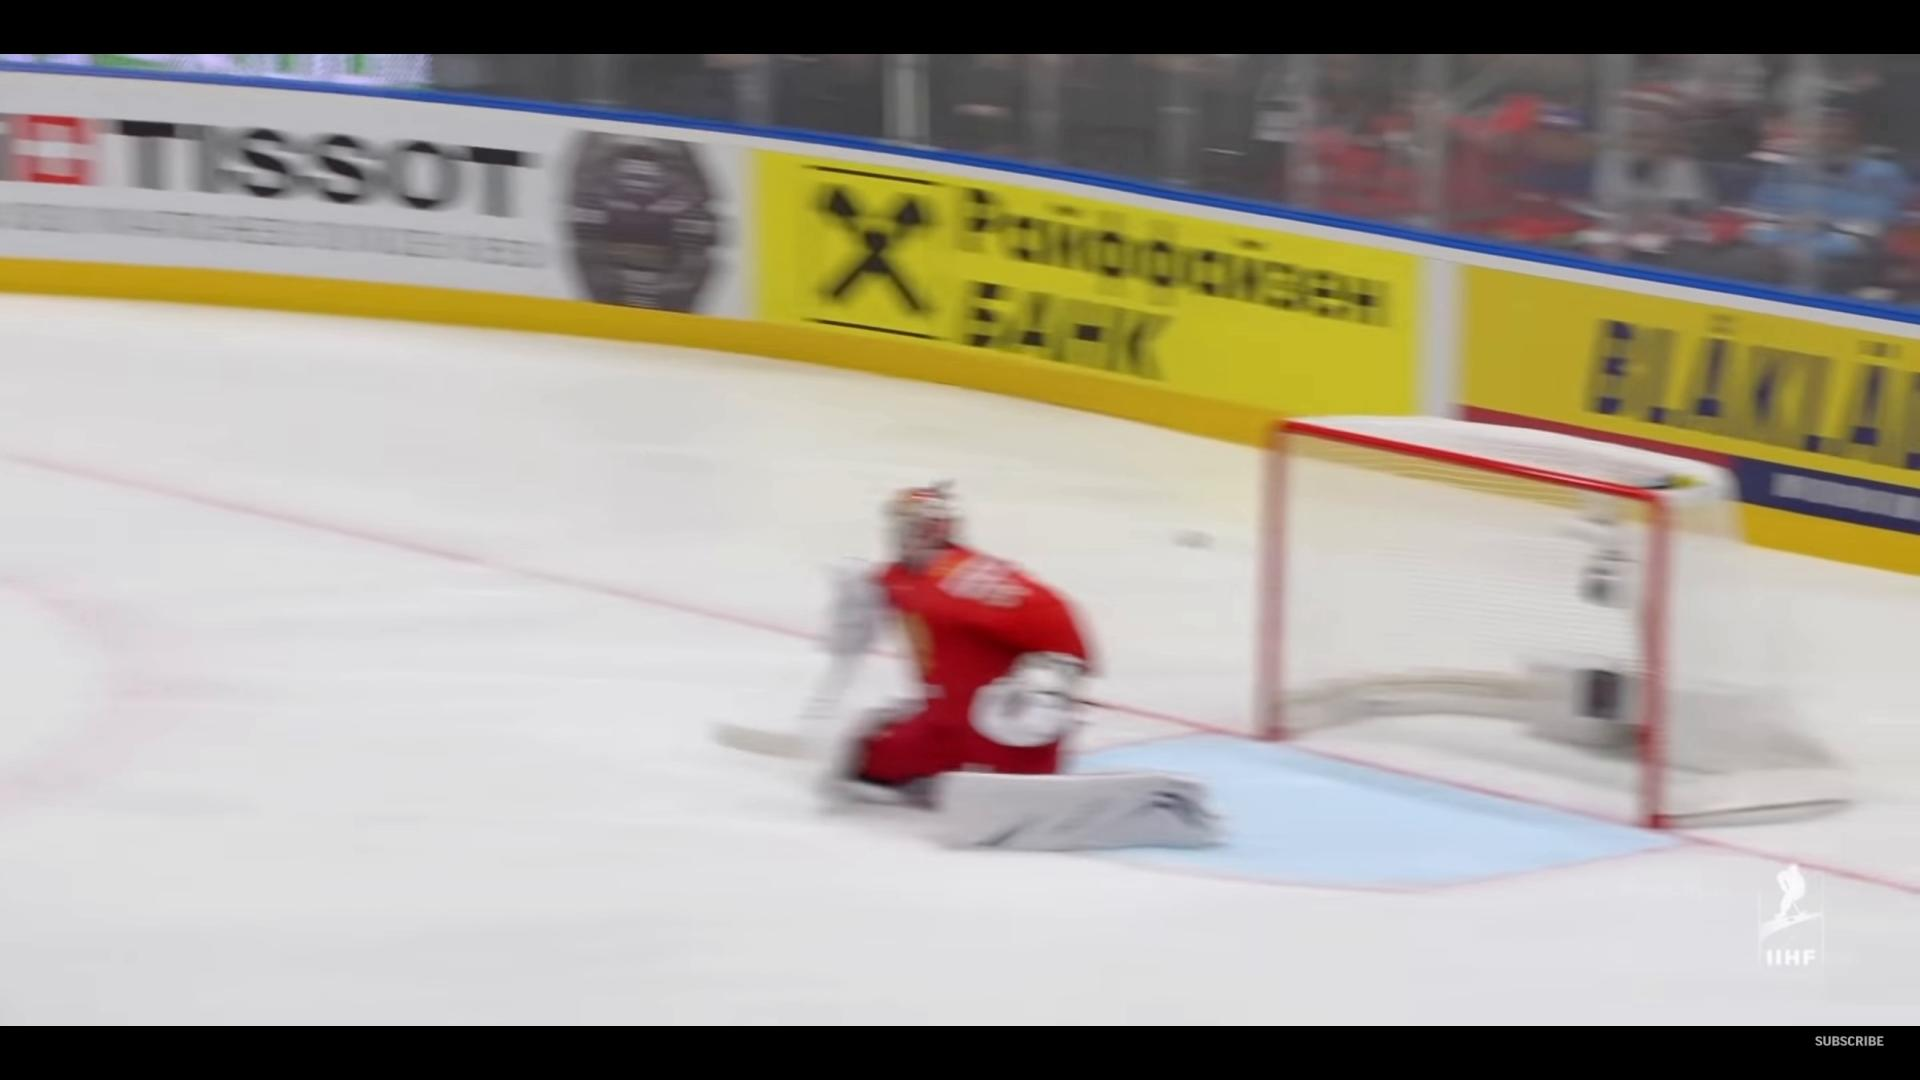puck: (1171, 525, 1217, 553)
